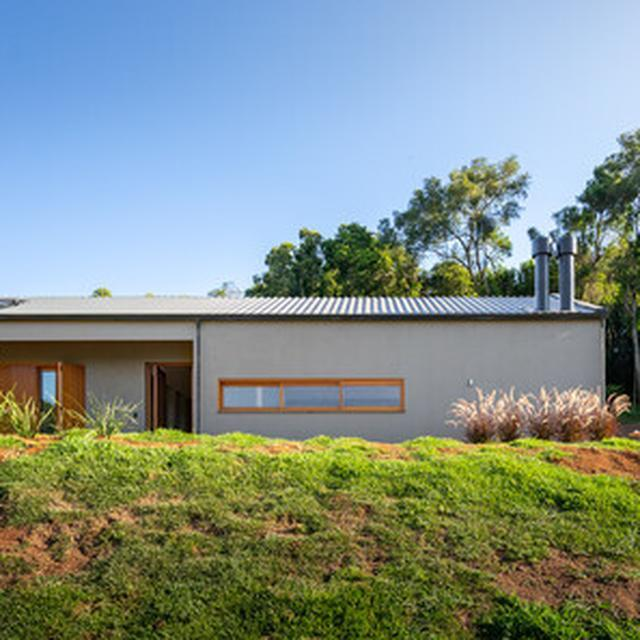building: (0, 294, 604, 444)
